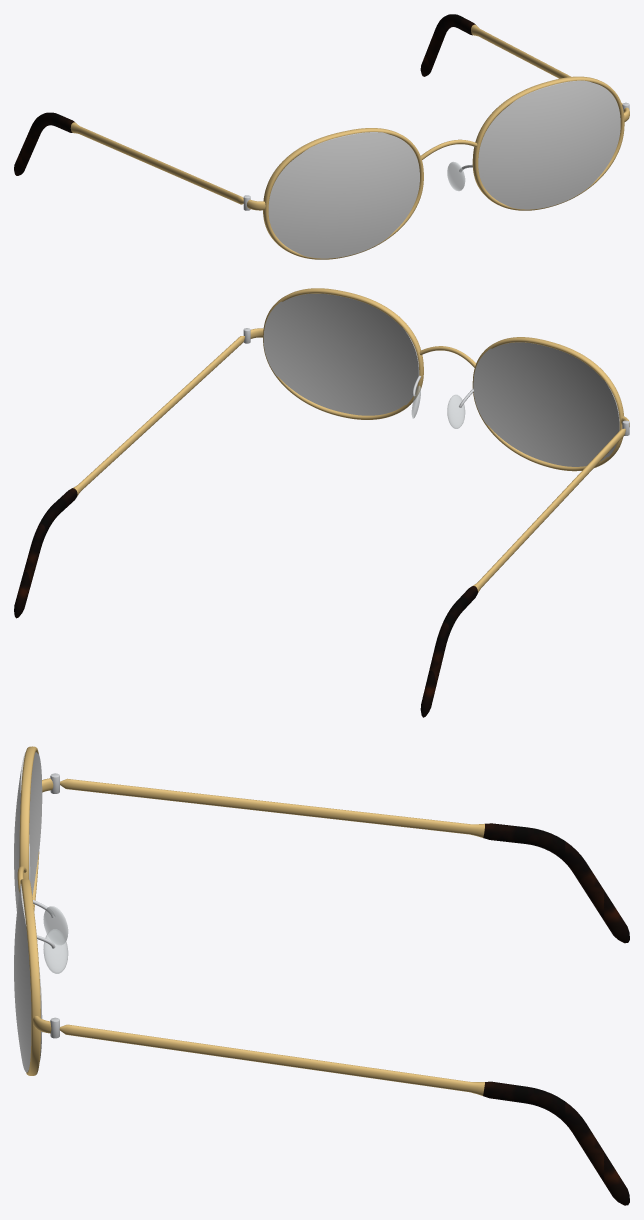
File: ada-m.glb
3 views of the same model, one above another, from view 1: azimuth 30°, elevation 25°; view 2: azimuth 150°, elevation 25°; view 3: azimuth 270°, elevation 25° (orthographic). The views are drawn at different scales.
Parts seen in each view (by area): view 1: Lens_R, Lens_L, Front, Temple_R, Temple_L, NosePads; view 2: Lens_L, Lens_R, Front, Temple_L, Temple_R, NosePads; view 3: Temple_L, Temple_R, Front, Lens_L, Lens_R, NosePads.
Boxes of the visible parts, x1,y1,x2,y2 form: Lens_R: (268,132,419,258); Lens_L: (478,80,620,209); Front: (243,76,629,259); Temple_R: (14,112,243,204); Temple_L: (420,14,622,104); NosePads: (447,162,465,190); Lens_L: (263,293,419,415); Lens_R: (473,342,619,466); Front: (243,288,629,471); Temple_L: (14,336,244,618); Temple_R: (420,428,625,717); NosePads: (411,385,465,428); Temple_L: (59,1024,629,1205); Temple_R: (60,778,629,943); Front: (17,746,59,1075); Lens_L: (14,883,42,1072); Lens_R: (14,752,42,910); NosePads: (43,906,68,973).
Bounding box in the file's own units: 0.1396 × 0.0593 × 0.1358.
6 materials, 1 textured.
